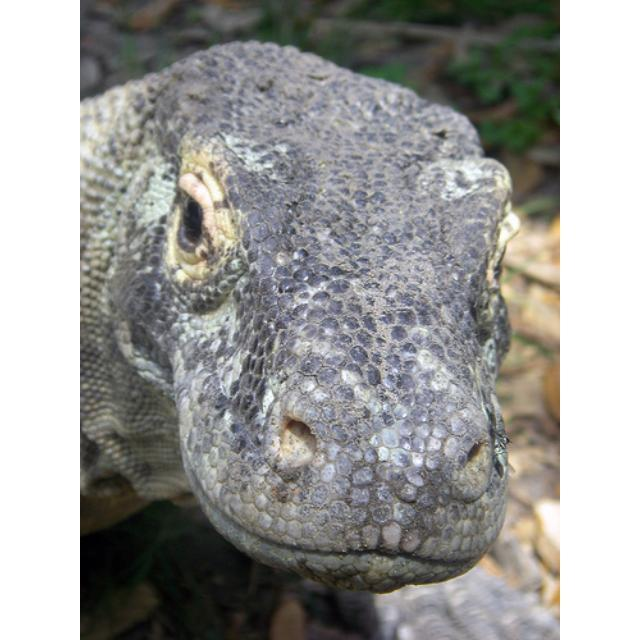KomodoDragon: (80, 35, 556, 636)
